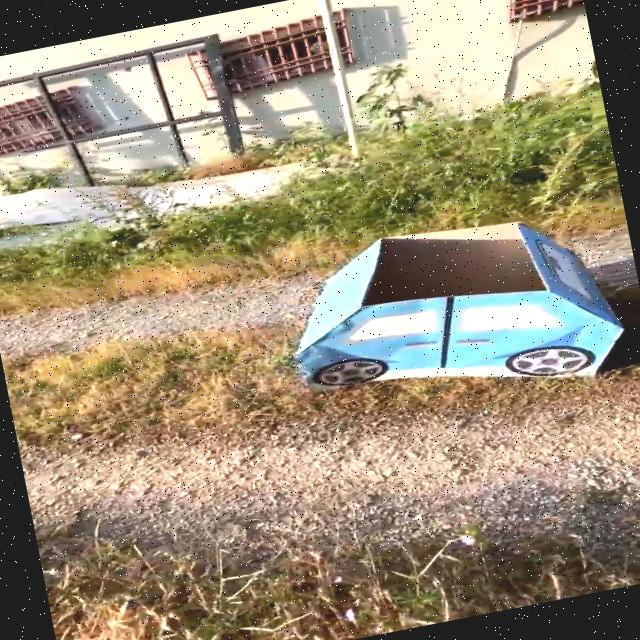blue_car: (209, 148, 640, 459)
